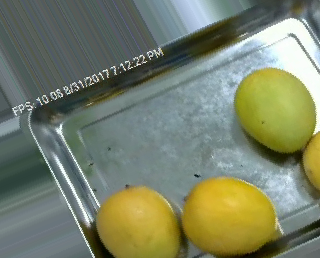Mango: (181, 177, 275, 253), (233, 68, 316, 151), (95, 187, 181, 257)
